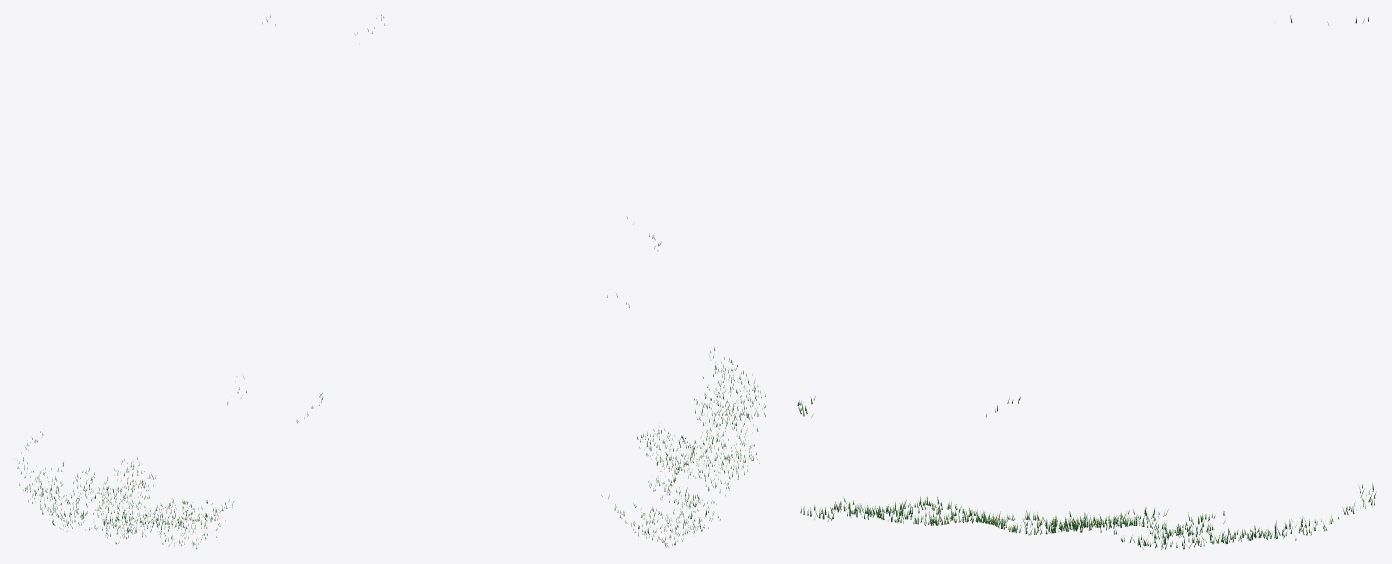
The picture shows the model from 3 angles, left to right: view 1: azimuth 30°, elevation 25°; view 2: azimuth 150°, elevation 25°; view 3: azimuth 270°, elevation 25°; orthographic projection. The views are drawn at different scales.
Visible parts, largest first — view 1: gc_54; view 2: gc_54; view 3: gc_54.
Part boxes in pixels (bbox=[...]): gc_54: bbox=[17, 15, 322, 549]; gc_54: bbox=[354, 14, 765, 547]; gc_54: bbox=[797, 15, 1376, 549].
Bounding box in the file's own units: 18.05 × 26.78 × 18.12.
Materials: 1 (1 with a texture image).
